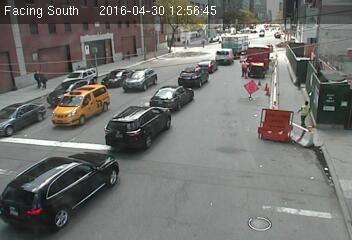neg: (142, 27, 169, 63), (200, 109, 225, 142), (110, 149, 132, 178), (181, 65, 202, 93)
pos: (291, 96, 315, 128), (236, 56, 252, 77), (28, 67, 42, 87), (36, 72, 48, 88)
